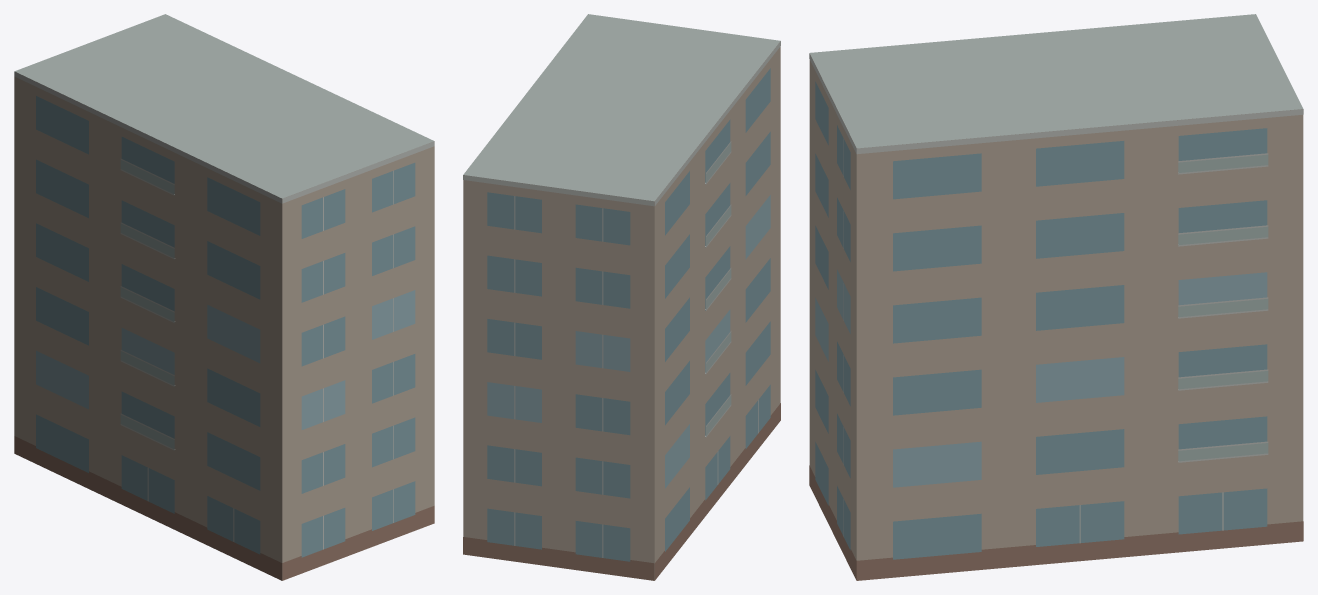
The model's file is survey-upis-32913195.glb.
The picture shows the model from 3 angles, left to right: view 1: azimuth 30°, elevation 25°; view 2: azimuth 150°, elevation 25°; view 3: azimuth 270°, elevation 25°; orthographic projection. The views are drawn at different scales.
Visible parts, largest first — view 1: survey-upis-32913195.tmp; view 2: survey-upis-32913195.tmp; view 3: survey-upis-32913195.tmp.
Part boxes in pixels (<box>): survey-upis-32913195.tmp: <box>14,14,434,580</box>; survey-upis-32913195.tmp: <box>463,14,780,580</box>; survey-upis-32913195.tmp: <box>809,14,1303,580</box>.
Size of the model in its own units: 12.21 by 18.3 by 18.96.
